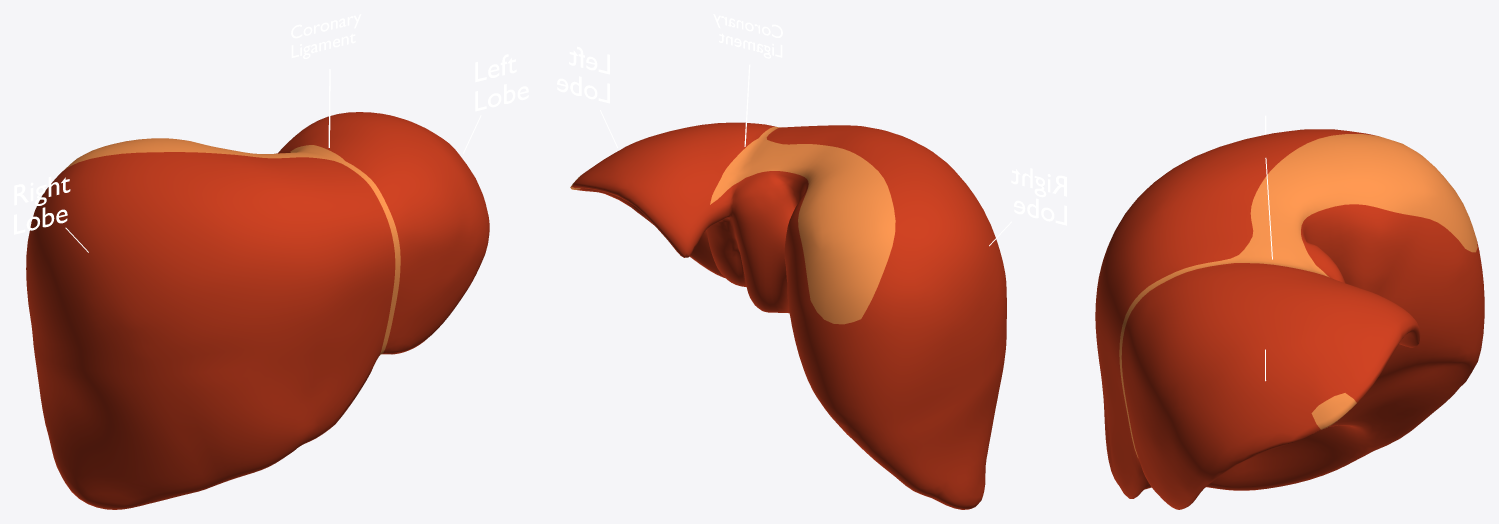
File: LiverAnim.glb
The picture shows the model from 3 angles, left to right: view 1: azimuth 30°, elevation 25°; view 2: azimuth 150°, elevation 25°; view 3: azimuth 270°, elevation 25°; orthographic projection. The views are drawn at different scales.
Parts seen in each view (by area): view 1: Liver, Text, Text.001, Text.002; view 2: Liver, Text, Text.001, Text.002; view 3: Liver.
Boxes of the visible parts, x1=… form: Liver: x1=26, y1=112, x2=489, y2=509; Text: x1=14, y1=176, x2=70, y2=234; Text.001: x1=475, y1=54, x2=528, y2=111; Text.002: x1=291, y1=14, x2=361, y2=58; Liver: x1=570, y1=122, x2=1006, y2=509; Text: x1=1011, y1=168, x2=1066, y2=225; Text.001: x1=557, y1=46, x2=609, y2=103; Text.002: x1=713, y1=14, x2=782, y2=58; Liver: x1=1095, y1=129, x2=1484, y2=509.
Size of the model in its own units: 0.3403 by 0.2728 by 0.1821.
